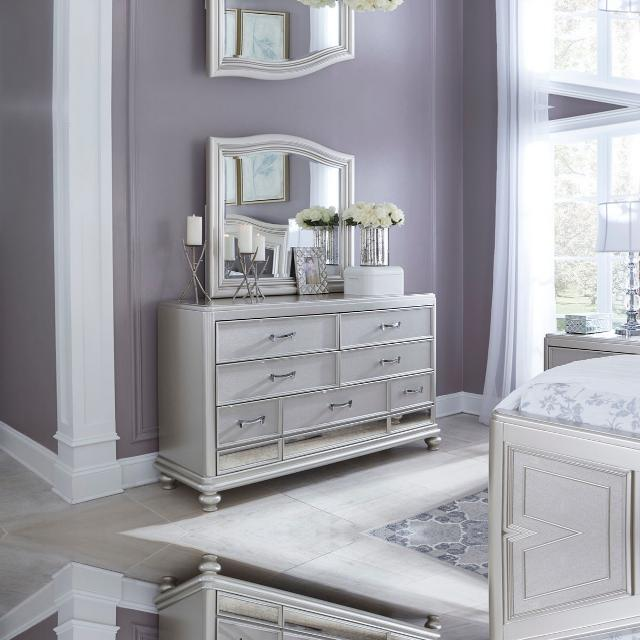dresser: (150, 119, 444, 509), (150, 556, 444, 640)
